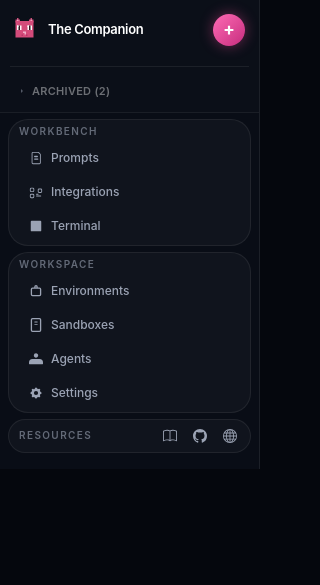
Scenario: Sidebar › shows 'Delete all' button when archived section is expanded with multiple sessions
The width and height of the screenshot is (320, 585).
expect the text "Delete all" is not shown: met
// Expand archived section
Click the button "Archived (2)" at (130, 91), box [10,79,249,104]
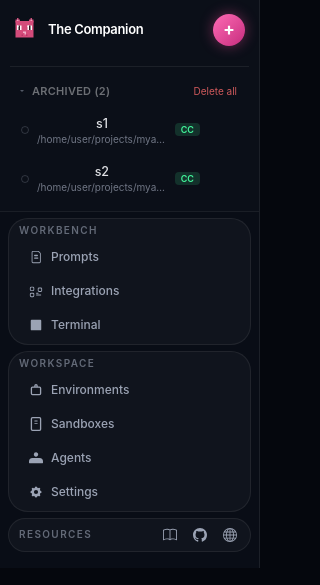
expect the button "Delete all" is shown: met, box [185,82,245,101]
